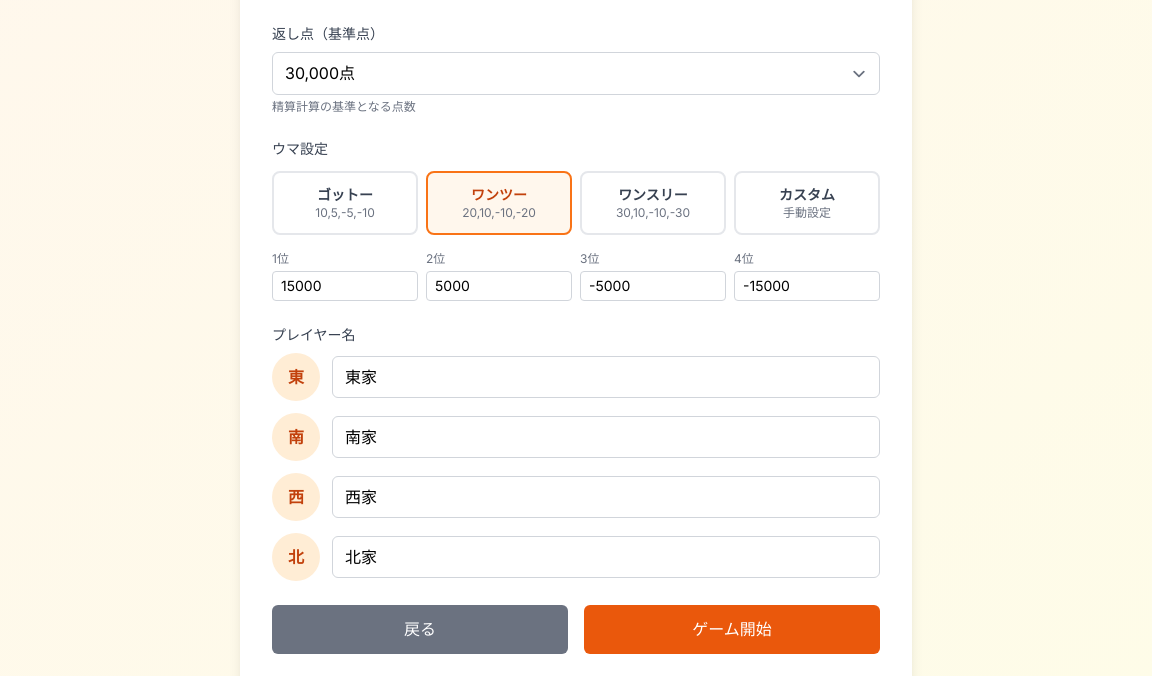
it: SoloCreatePage › should show an error message if player names are duplicated
(page scrolled)
Type "同じ名前" into the 1st field with placeholder "東家" at (606, 377), box [332,356,880,398]
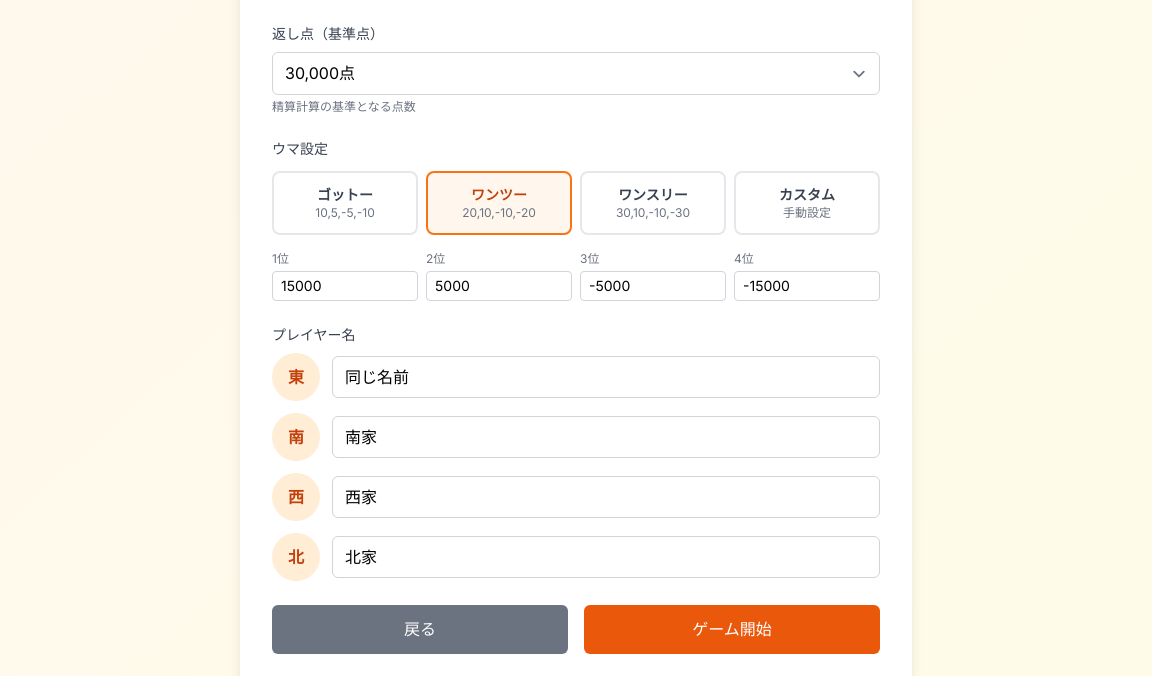
Type "同じ名前" into the 2nd field with placeholder "南家" at (606, 437), box [332,416,880,458]
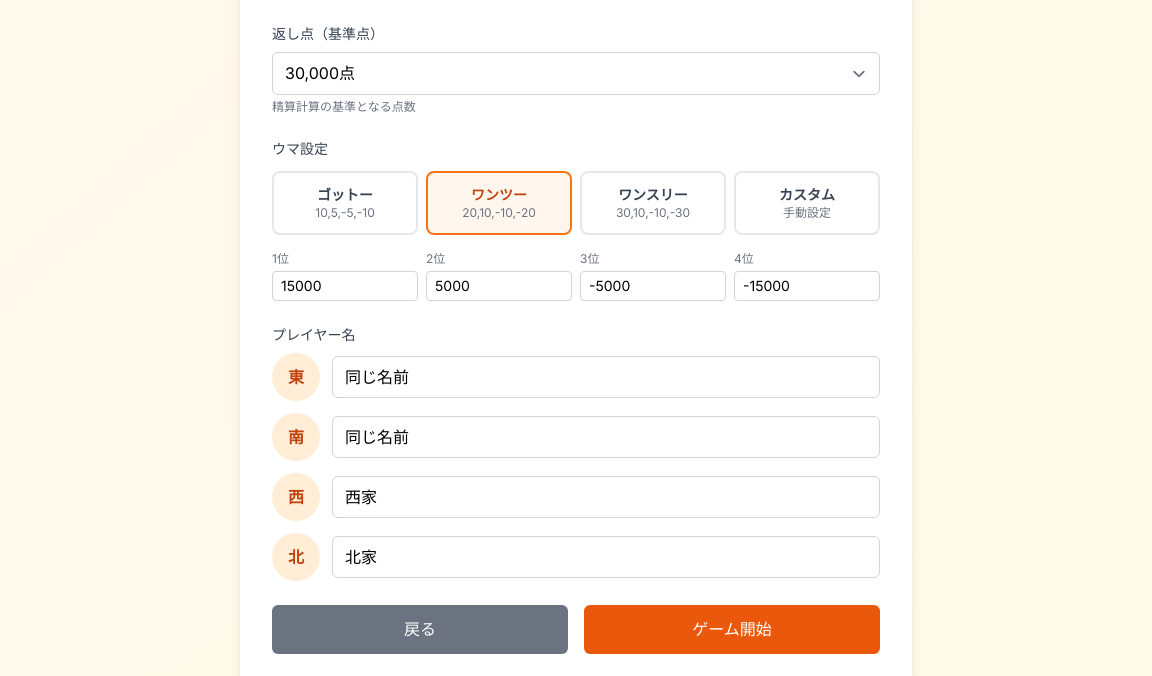
Click the button "ゲーム開始" at (732, 630), box [584,605,880,654]
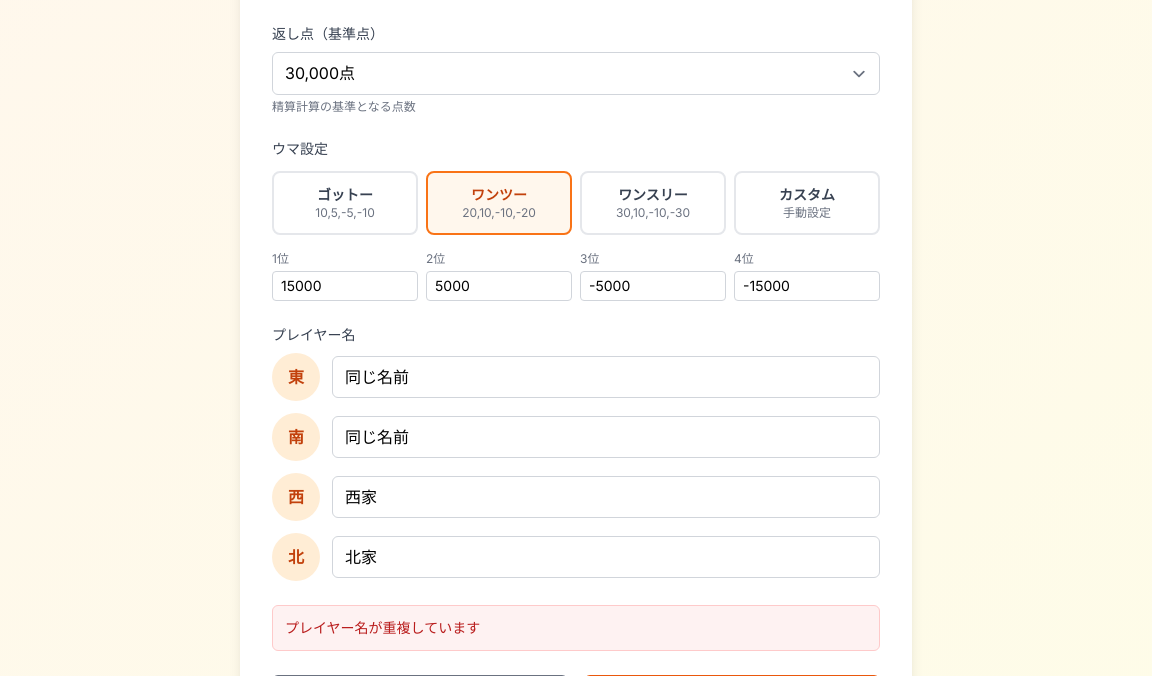
Check: the text "プレイヤー名が重複しています" is shown, box [285,619,480,636]
